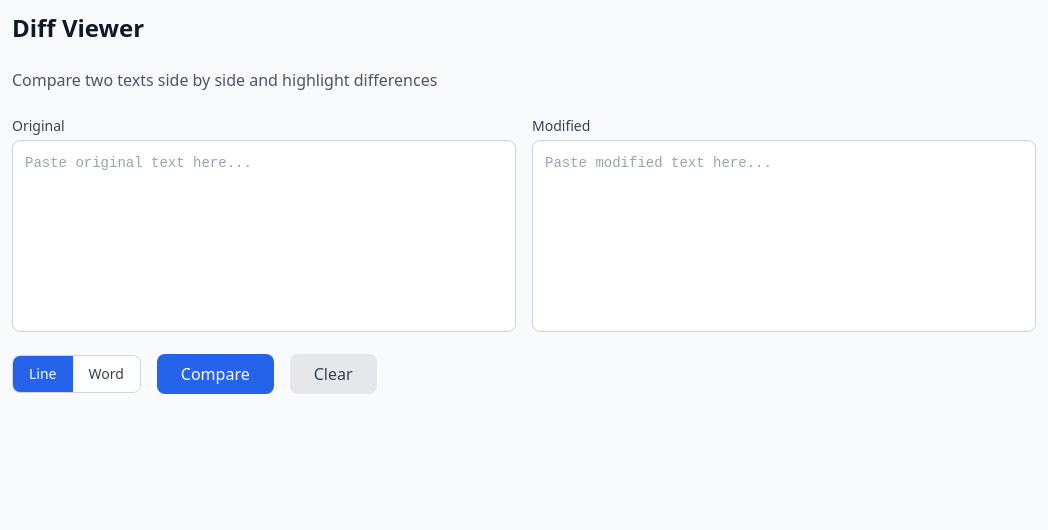
DiffViewer › compare button shows diff output
Type "hello" into the text box labelled "Original" at (264, 236), box [12,140,516,332]
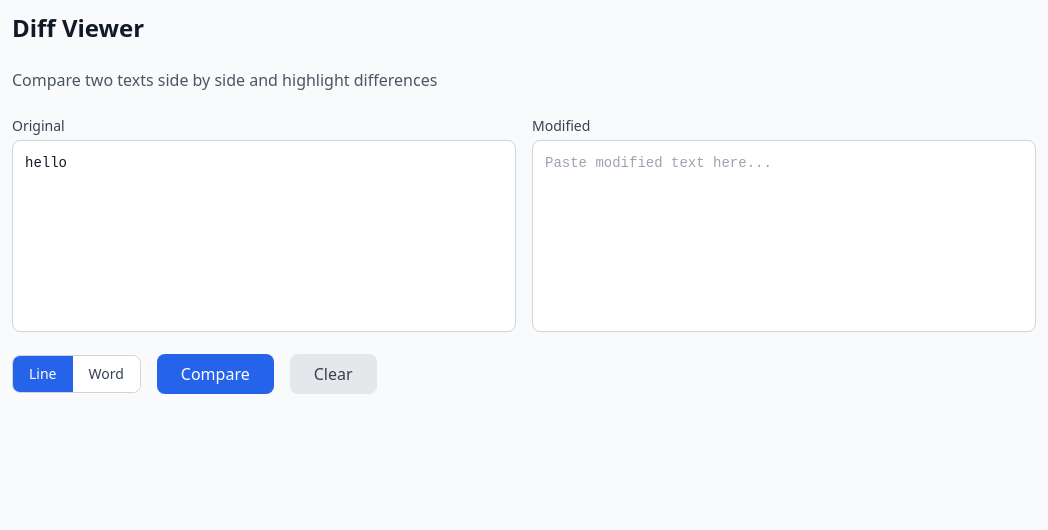
Type "world" into the text box labelled "Modified" at (784, 236), box [532,140,1036,332]
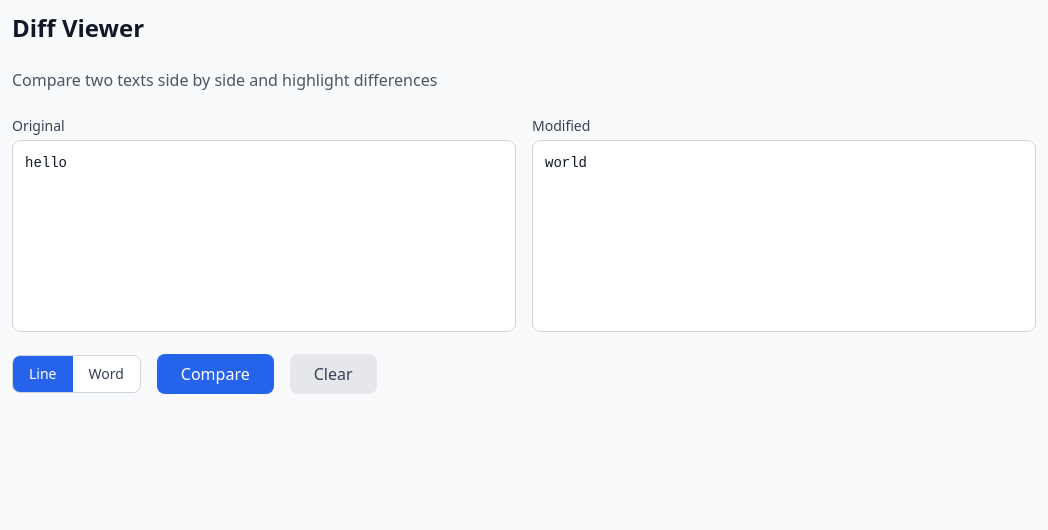
Click the button "Compare" at (215, 374), box [157,354,274,394]
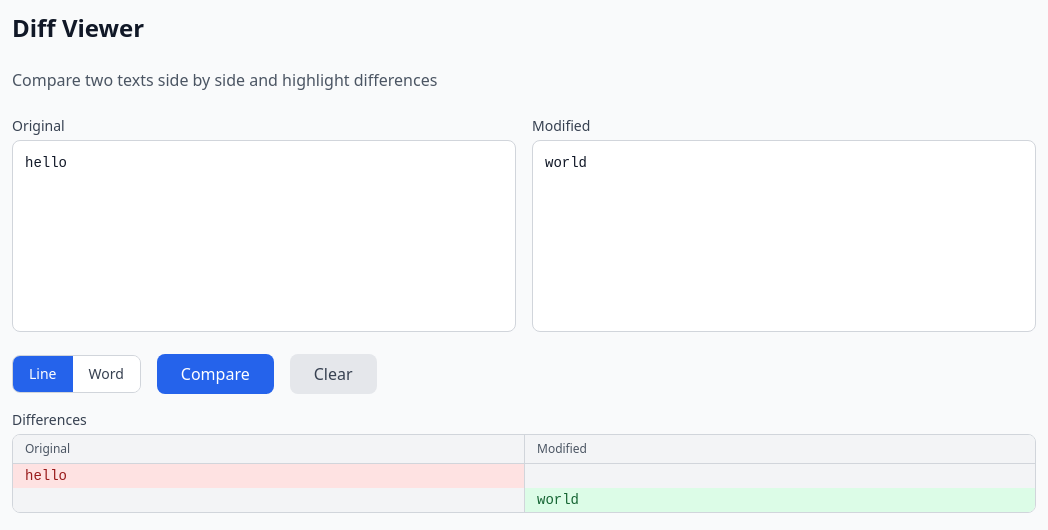
Check: the text "Differences" is shown, box [12,410,87,429]
